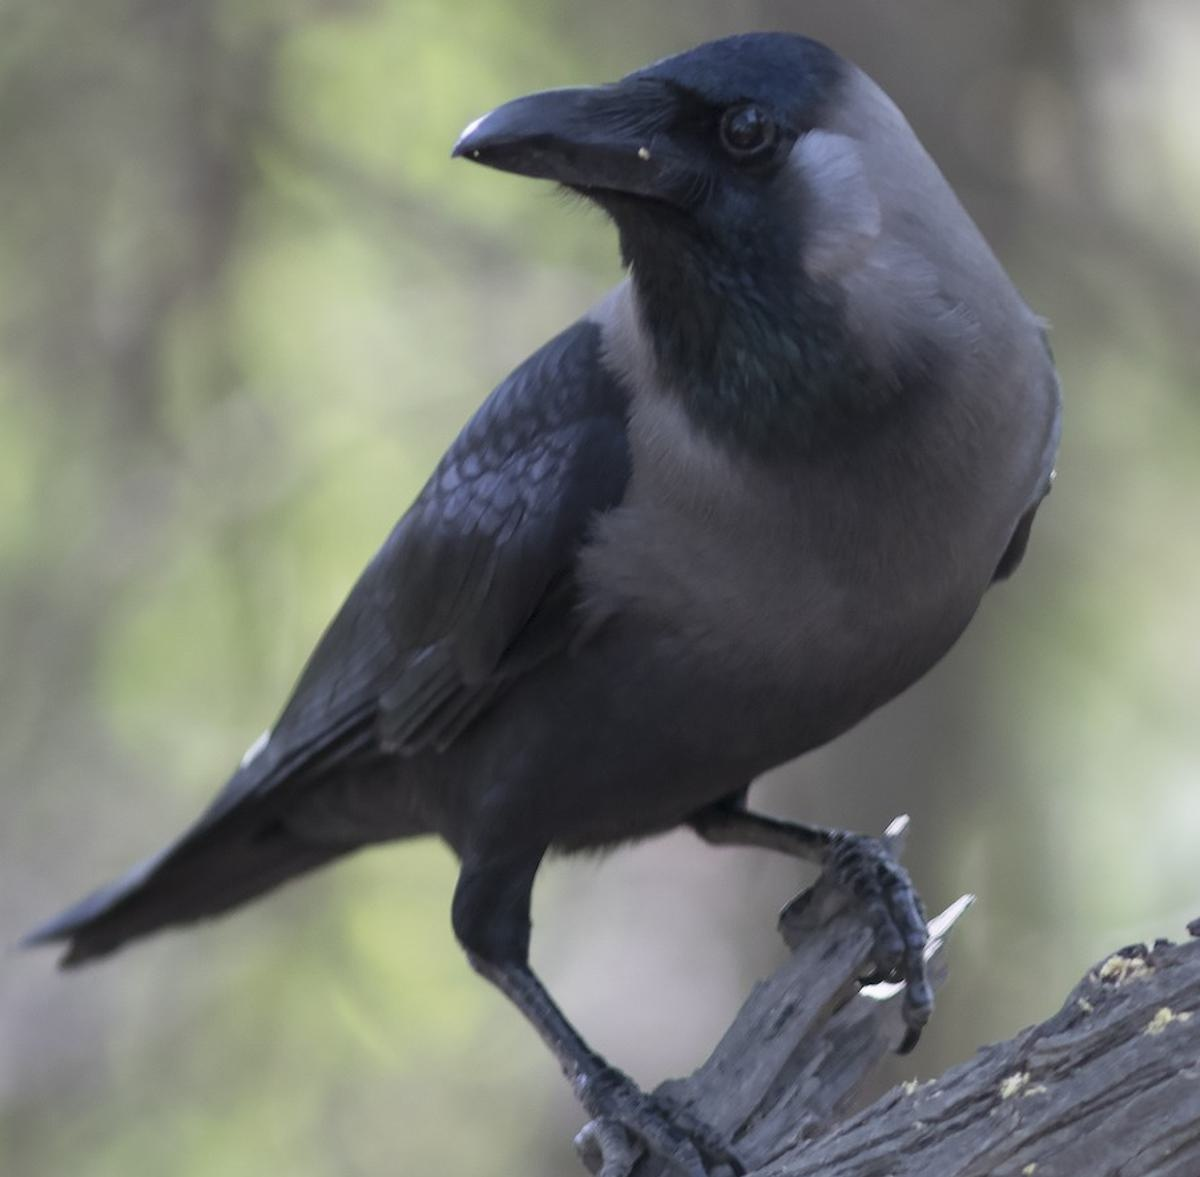crow: (56, 24, 1068, 1177)
